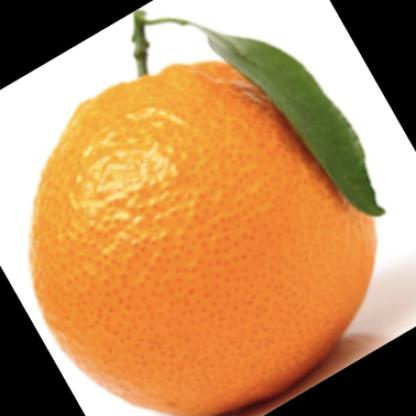fresh: (29, 54, 379, 416)
